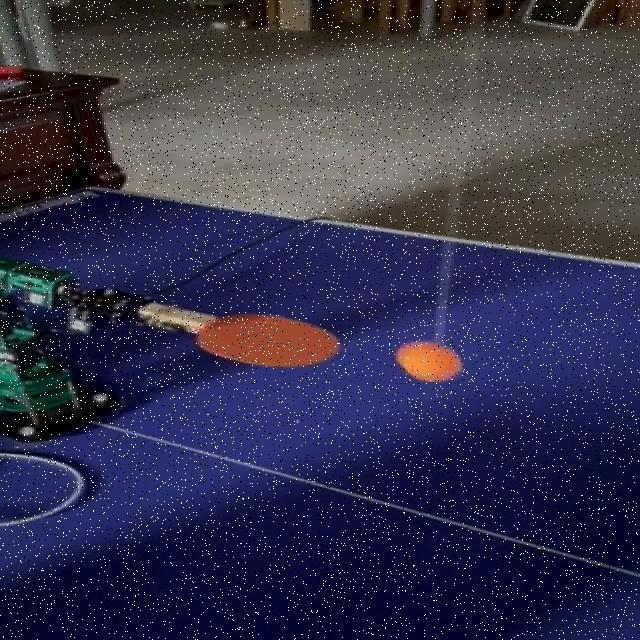ping-pong-ball: (390, 344, 462, 376)
